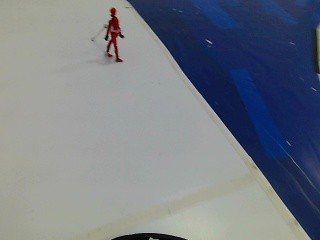pedestrian: (98, 4, 126, 60)
